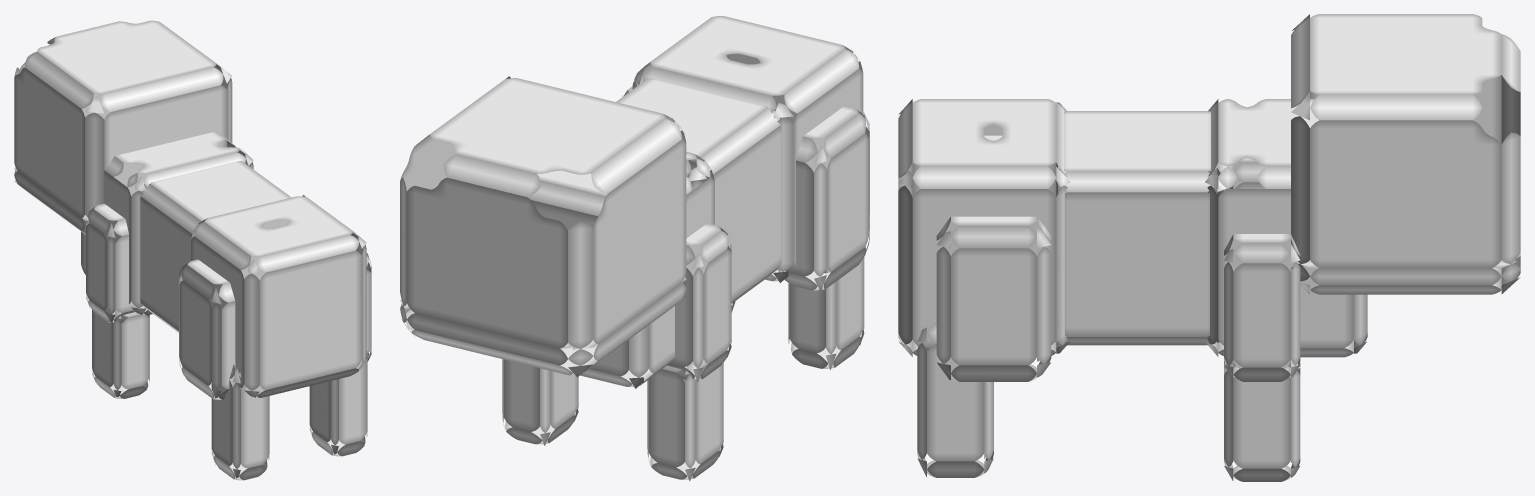
The model's file is Mo_FB_Body.fbx.
3 views of the same model, side by side, from view 1: azimuth 30°, elevation 25°; view 2: azimuth 150°, elevation 25°; view 3: azimuth 270°, elevation 25° (orthographic). The views are drawn at different scales.
Visible parts, largest first — view 1: beveled_cuboid, beveled_cuboid_4, beveled_cuboid_3, beveled_cuboid_2, beveled_cuboid_7, beveled_cuboid_8, beveled_cuboid_6, beveled_cuboid_5, beveled_cuboid_12, beveled_cuboid_1, beveled_cuboid_11; view 2: beveled_cuboid, beveled_cuboid_4, beveled_cuboid_3, beveled_cuboid_7, beveled_cuboid_2, beveled_cuboid_6, beveled_cuboid_5, beveled_cuboid_1, beveled_cuboid_8, beveled_cuboid_10; view 3: beveled_cuboid, beveled_cuboid_3, beveled_cuboid_4, beveled_cuboid_11, beveled_cuboid_2, beveled_cuboid_9, beveled_cuboid_12, beveled_cuboid_10, beveled_cuboid_1, beveled_cuboid_5.
Part boxes in pixels (x1,y1,x2,y2): beveled_cuboid: (14, 20, 232, 220); beveled_cuboid_4: (191, 195, 366, 397); beveled_cuboid_3: (139, 161, 291, 332); beveled_cuboid_2: (81, 131, 253, 315); beveled_cuboid_7: (179, 259, 244, 399); beveled_cuboid_8: (211, 363, 269, 480); beveled_cuboid_6: (92, 306, 149, 398); beveled_cuboid_5: (86, 203, 137, 322); beveled_cuboid_12: (309, 347, 367, 456); beveled_cuboid_1: (14, 167, 88, 234); beveled_cuboid_11: (366, 253, 371, 361); beveled_cuboid: (400, 76, 686, 348); beveled_cuboid_4: (632, 16, 863, 282); beveled_cuboid_3: (616, 78, 781, 303); beveled_cuboid_7: (778, 106, 869, 290); beveled_cuboid_2: (528, 151, 714, 388); beveled_cuboid_6: (647, 359, 723, 481); beveled_cuboid_5: (667, 223, 731, 381); beveled_cuboid_1: (400, 277, 686, 377); beveled_cuboid_8: (788, 257, 864, 369); beveled_cuboid_10: (502, 359, 578, 445); beveled_cuboid: (1291, 14, 1520, 267); beveled_cuboid_3: (1055, 111, 1233, 345); beveled_cuboid_4: (898, 99, 1070, 356); beveled_cuboid_11: (936, 216, 1051, 381); beveled_cuboid_2: (1205, 99, 1367, 357); beveled_cuboid_9: (1224, 234, 1300, 381); beveled_cuboid_12: (917, 320, 993, 477); beveled_cuboid_10: (1224, 359, 1300, 481); beveled_cuboid_1: (1291, 252, 1520, 294); beveled_cuboid_5: (1224, 158, 1265, 189).
Bounding box in the file's own units: 81.25 × 138 × 203.
